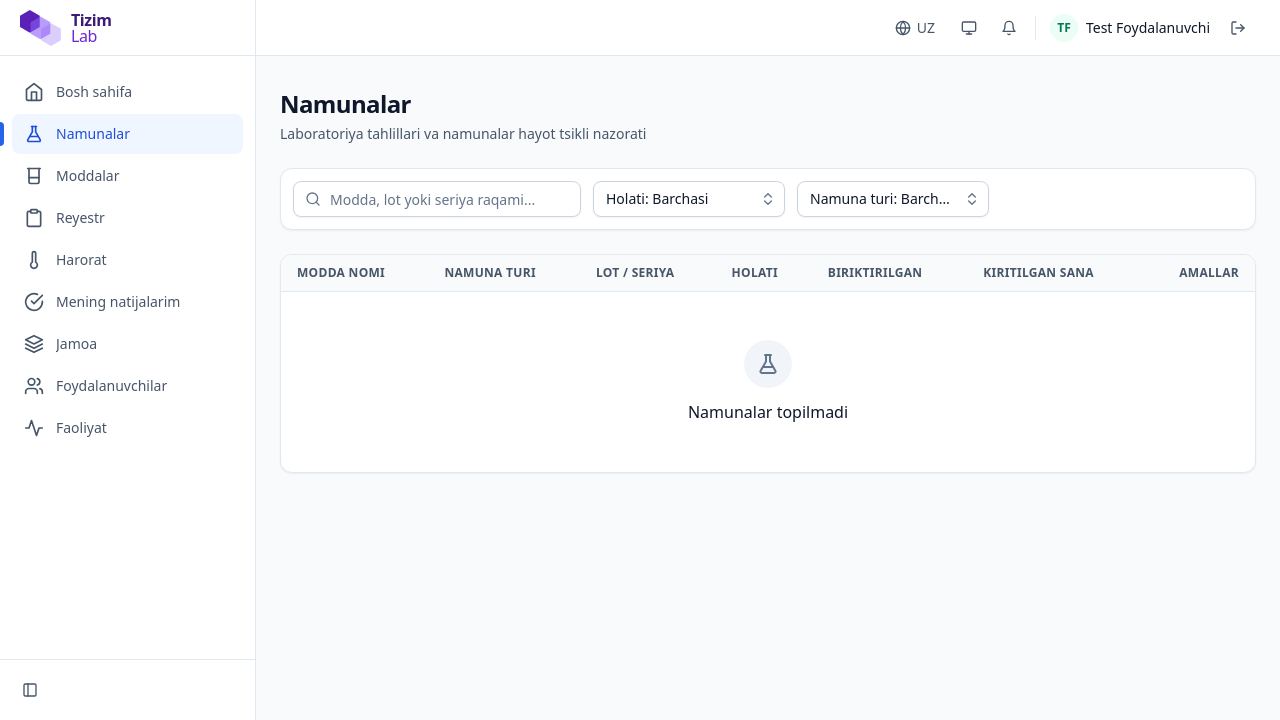
Scenario: til almashtirgich › tanlangan til matnni, localStorage va <html lang> ni o'zgartiradi
Expected: the heading "Namunalar" is shown, [280, 88, 411, 120]
# Til almashtirgich — Menu (menuitemradio), native select emas (D-158)
Click the button with aria-label "Til": (915, 28) [883, 12, 947, 44]
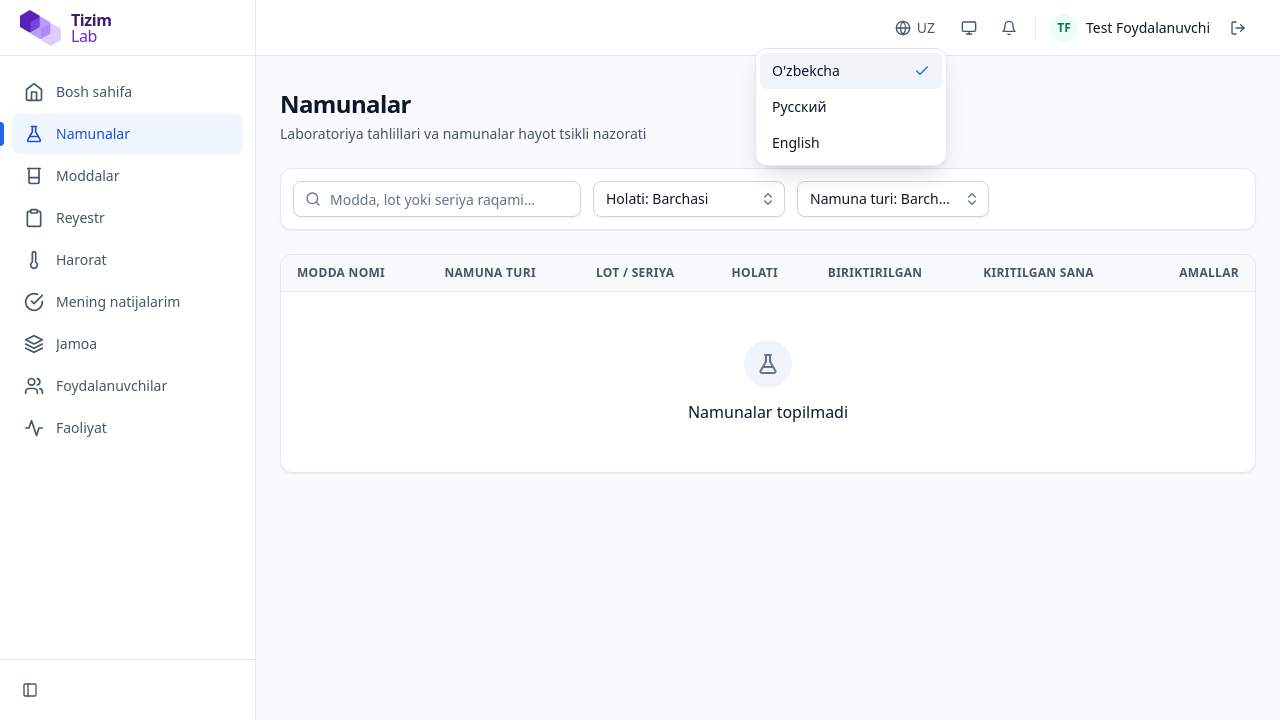
Click the menu item "Русский": (851, 106) [760, 88, 942, 124]
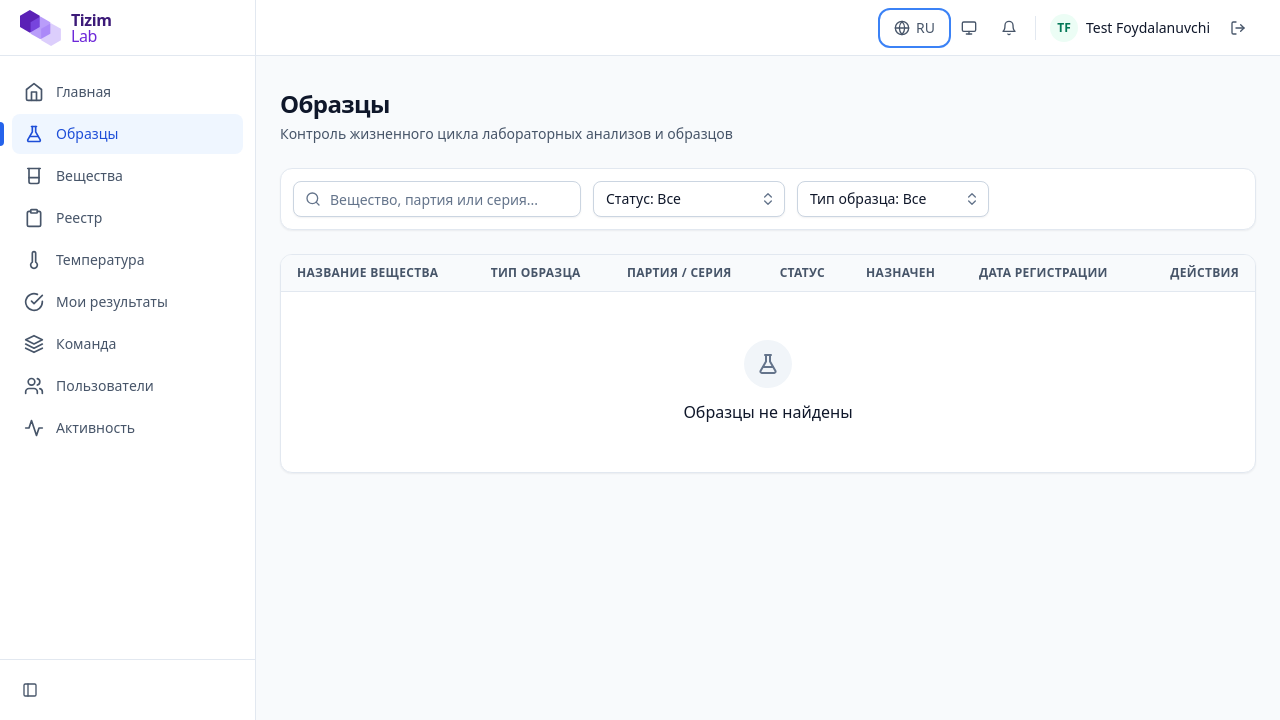
Result: the heading "Образцы" is shown at [280, 88, 390, 120]
Click the button with aria-label "Язык": (914, 28) [882, 12, 947, 44]
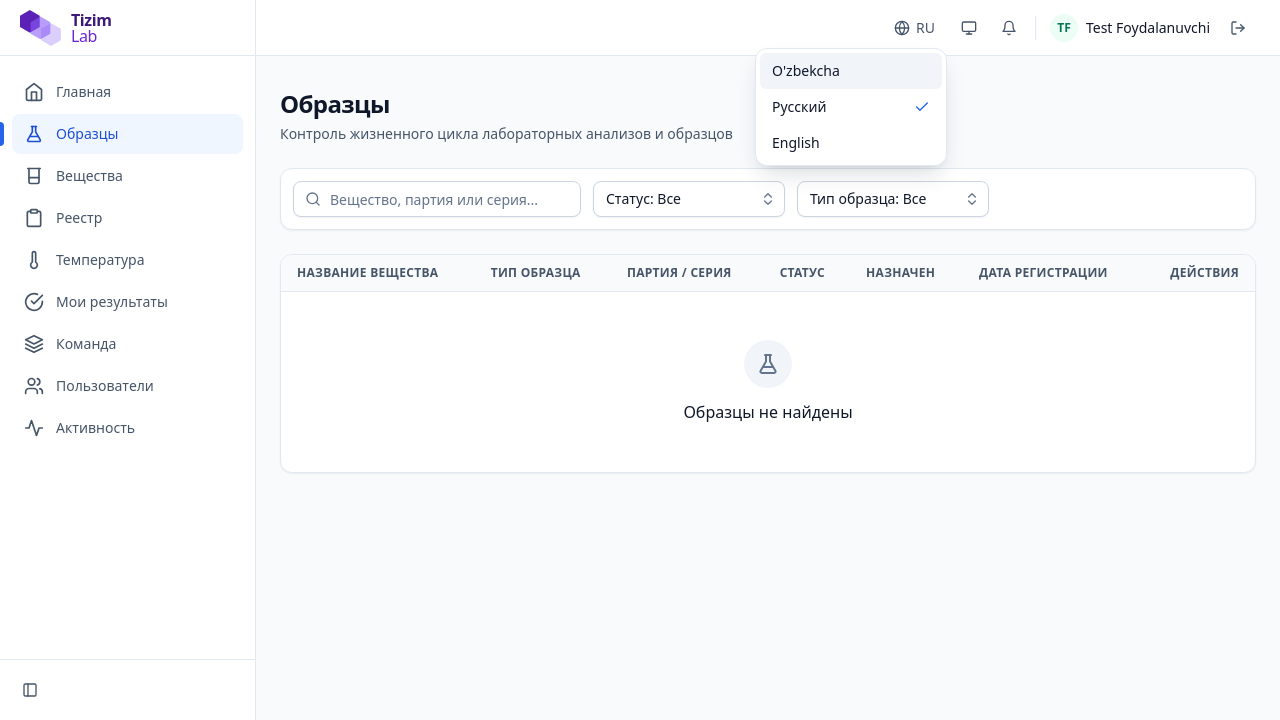
Click the menu item "English": (851, 142) [760, 124, 942, 160]
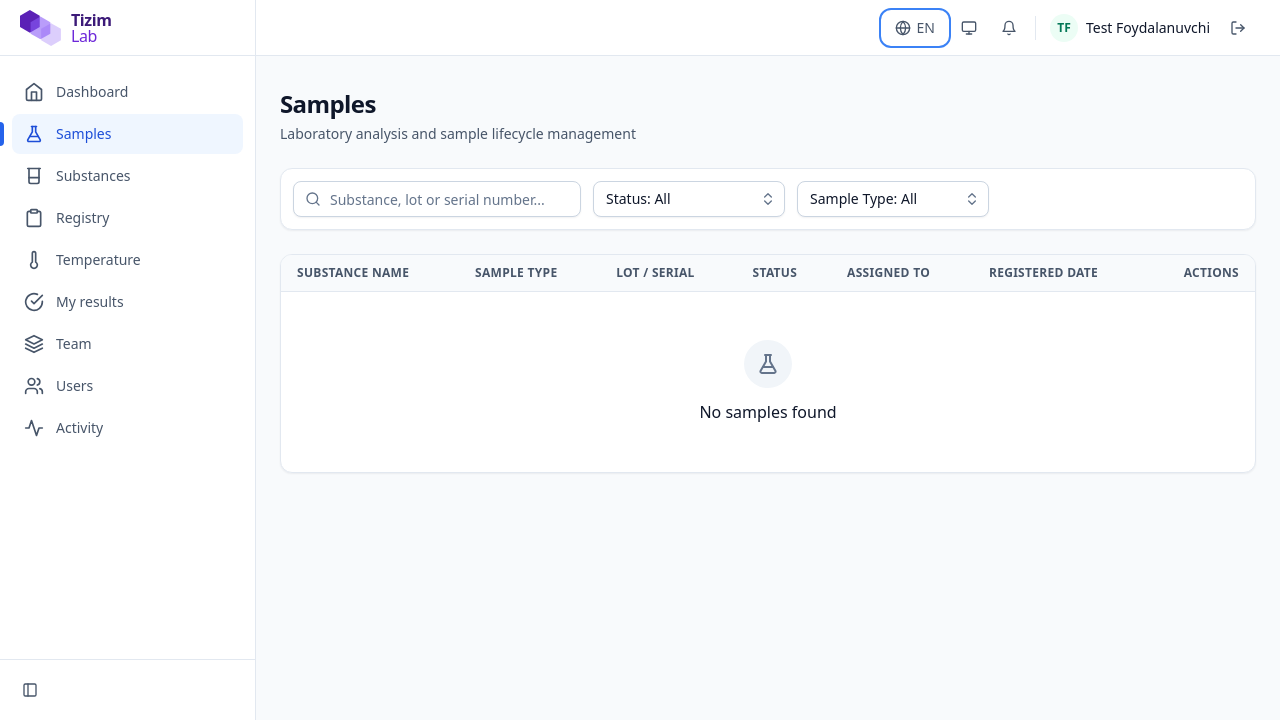
Result: the heading "Samples" is shown at [280, 88, 376, 120]
